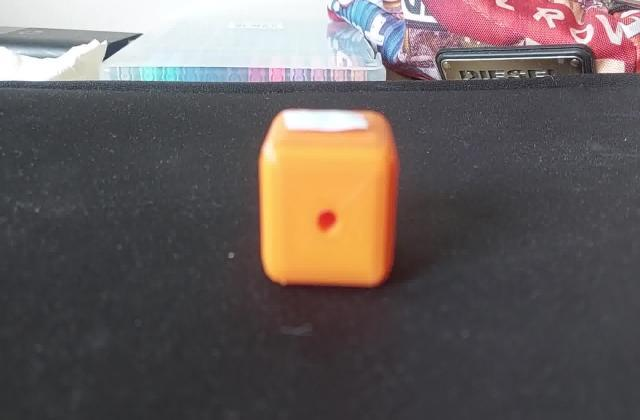cube: (253, 108, 403, 296)
white: (282, 110, 372, 136)
